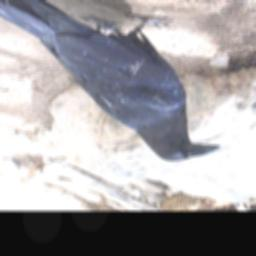Crow: (0, 0, 223, 164)
